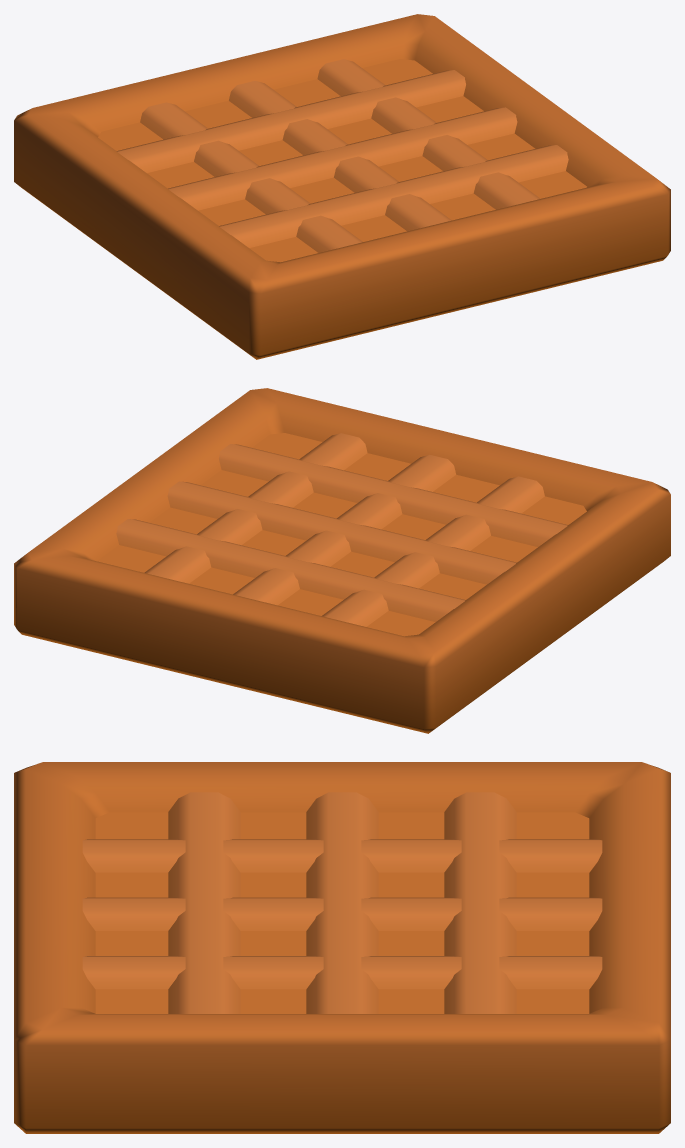
The model's file is Waffle_01.glb.
3 renders of one model, top to bottom at view 1: azimuth 30°, elevation 25°; view 2: azimuth 150°, elevation 25°; view 3: azimuth 270°, elevation 25°, orthographic. The views are drawn at different scales.
Parts seen in each view (by area): view 1: Waffle_01; view 2: Waffle_01; view 3: Waffle_01.
Boxes of the visible parts, <box> form: Waffle_01: <box>14,14,670,359</box>; Waffle_01: <box>14,388,670,733</box>; Waffle_01: <box>14,762,670,1133</box>.
Size of the model in its own units: 4 by 0.7 by 4.
Materials: 2 (2 with a texture image).
